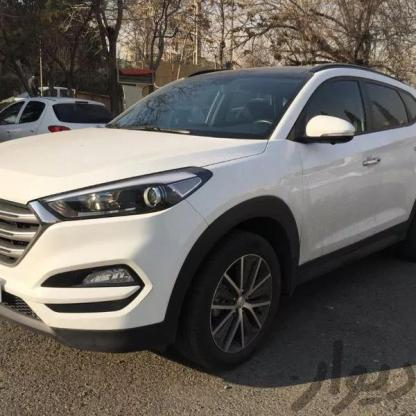Car: (0, 58, 416, 356), (0, 96, 119, 141)
